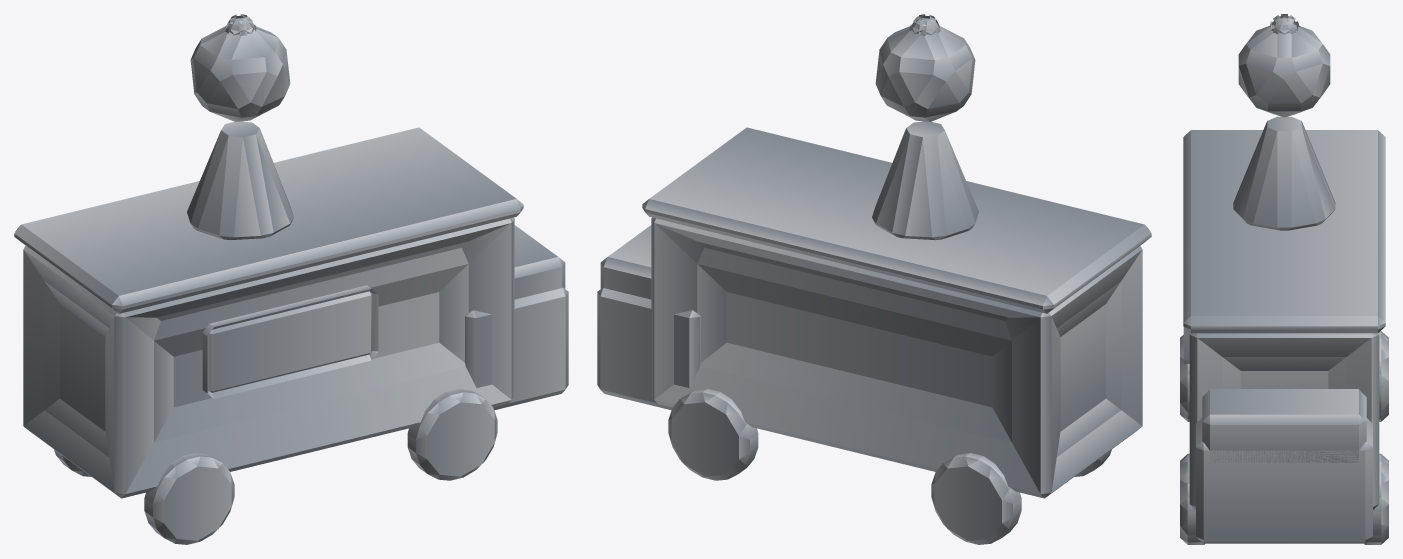
The model's file is dt_ice_cream_truck.fbx.
3 views of the same model, side by side, from view 1: azimuth 30°, elevation 25°; view 2: azimuth 150°, elevation 25°; view 3: azimuth 270°, elevation 25° (orthographic). The views are drawn at different scales.
Visible parts, largest first — view 1: dt_ice_cream_truck; view 2: dt_ice_cream_truck; view 3: dt_ice_cream_truck.
Part boxes in pixels (x1,y1,x2,y2): dt_ice_cream_truck: (14, 14, 568, 544); dt_ice_cream_truck: (597, 14, 1151, 544); dt_ice_cream_truck: (1180, 14, 1388, 544).
Bounding box in the file's own units: 1500 × 1439 × 611.
